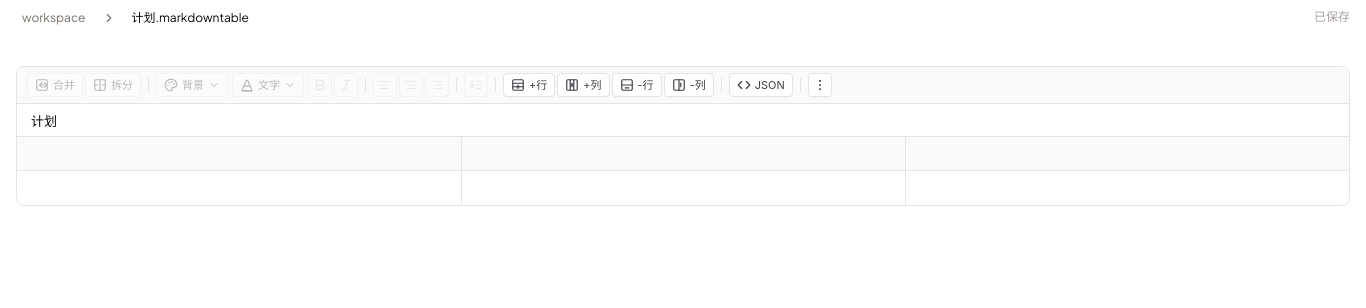
Test case: opens a cell context menu and inserts a column at the clicked cell
Step 1. Right-click the 2nd column heading → (683, 154), box [461, 136, 905, 170]
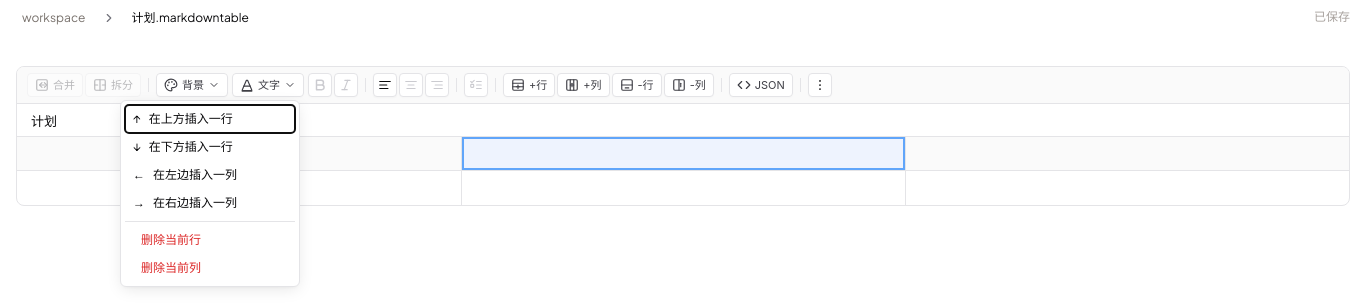
Expected: the number of menu items is 6
Step 2. Click the menu item "→ 在右边插入一列" → (210, 203), box [125, 189, 295, 217]
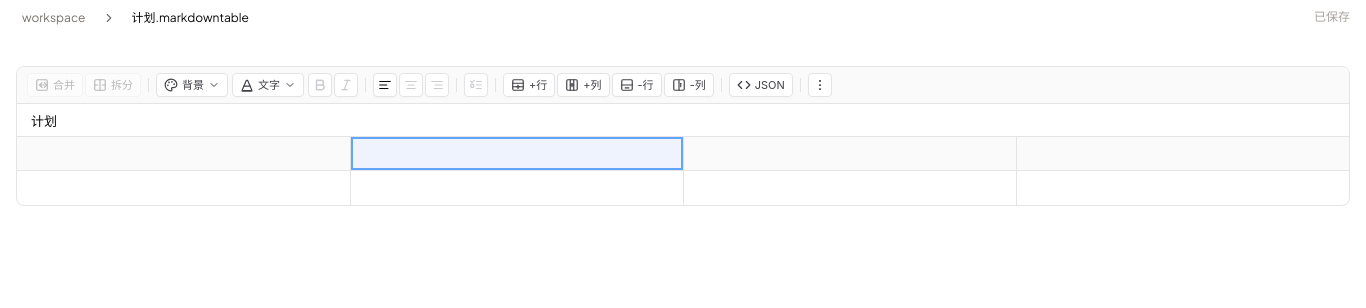
Expected: the menu is gone
Step 3. Right-click the 1st column heading → (184, 154), box [17, 136, 350, 170]
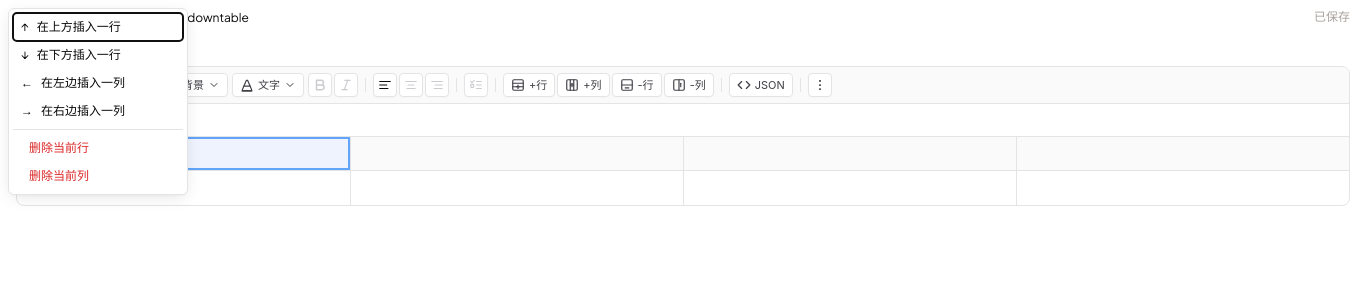
Step 4. Press Escape
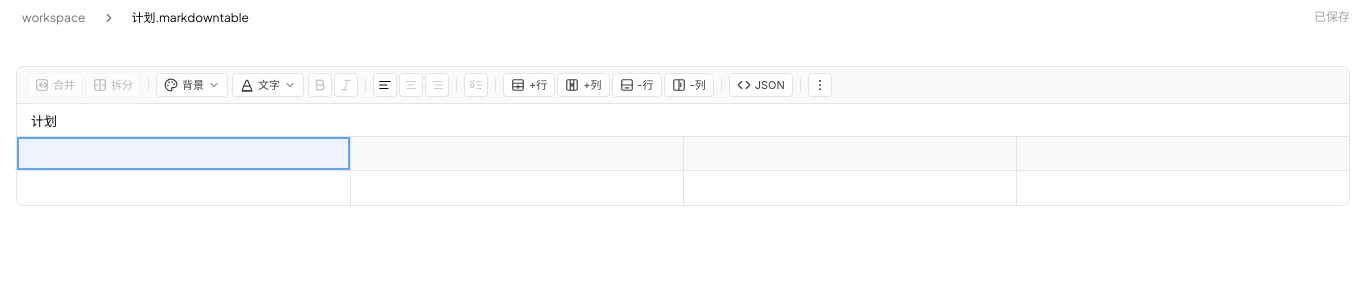
Expected: the menu is gone
